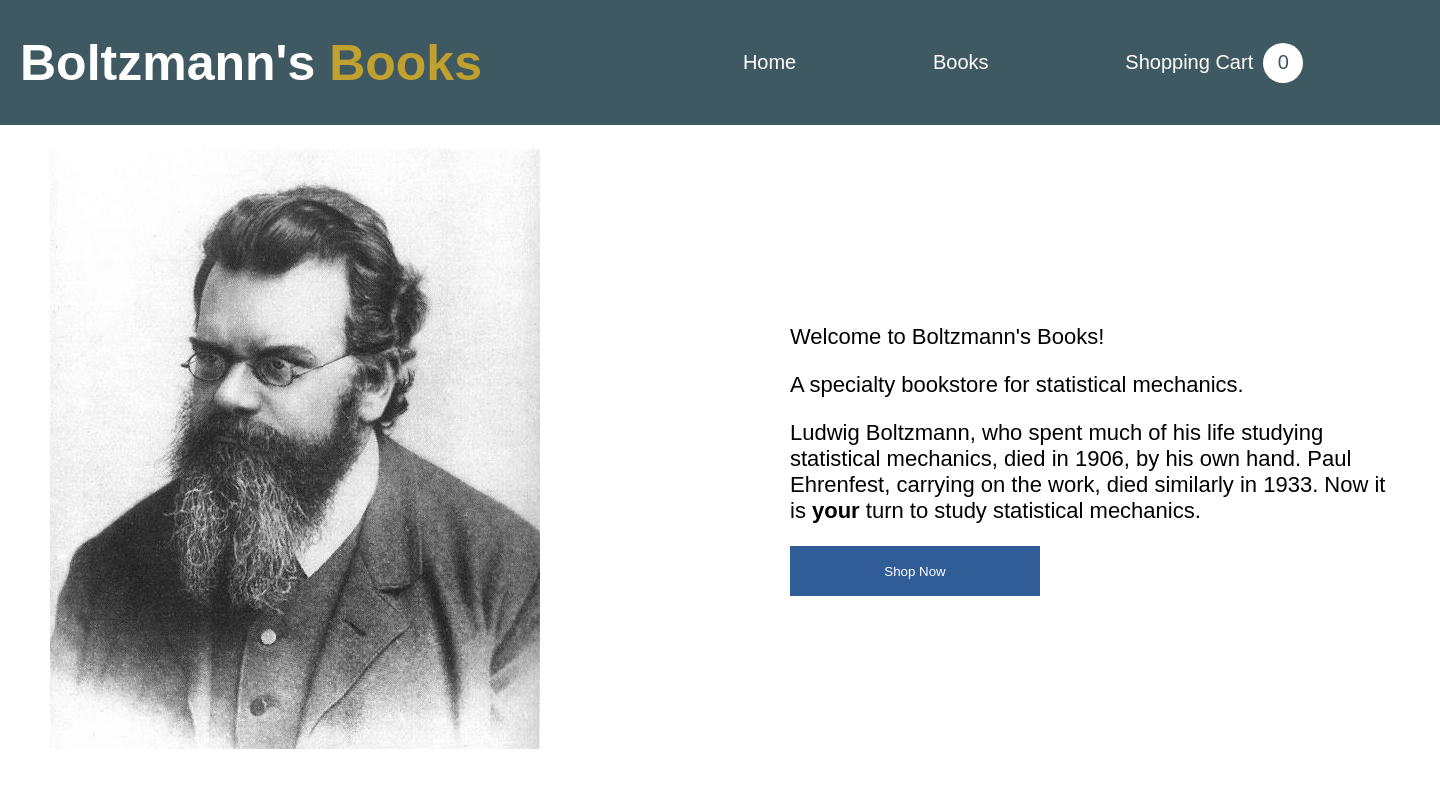
ShoppingCart tests › having no book in cart renders no subtotal
Step 1. Click the link with test id "cart" → [1189, 62], box [1125,51,1253,74]
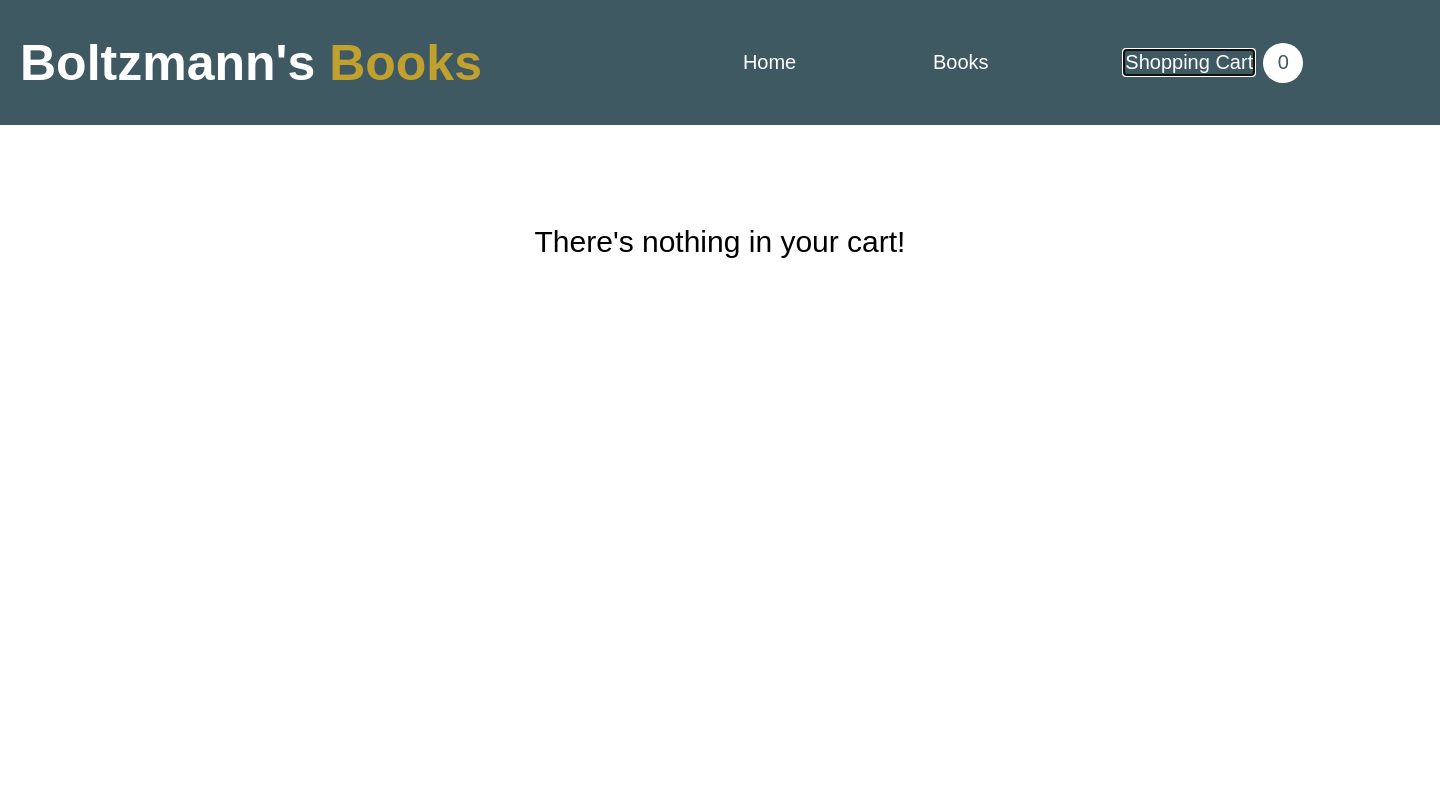
Expected: the text "There's nothing in your cart!" is shown, [534,225,905,259]
